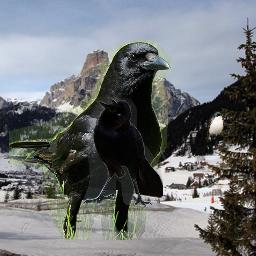Crow: (9, 40, 172, 240), (82, 97, 163, 207)
Swallow: (206, 111, 225, 144)
